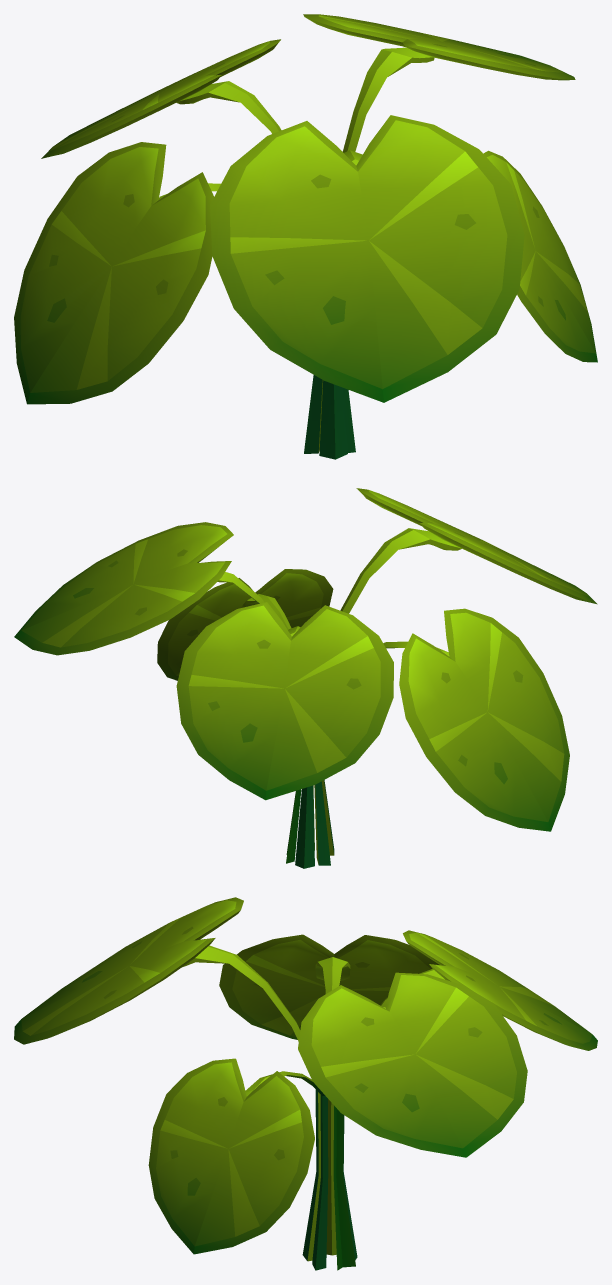
Rendered from plant1.glb.
3 renders of one model, top to bottom at view 1: azimuth 30°, elevation 25°; view 2: azimuth 150°, elevation 25°; view 3: azimuth 270°, elevation 25°, orthographic. The views are drawn at different scales.
Parts seen in each view (by area): view 1: plant1; view 2: plant1; view 3: plant1.
Part boxes in pixels (x1,y1,x2,y2): plant1: [14, 14, 597, 459]; plant1: [14, 488, 597, 868]; plant1: [14, 897, 597, 1270].
Size of the model in its own units: 2.77 by 1.78 by 2.93.
1 material, 1 textured.
